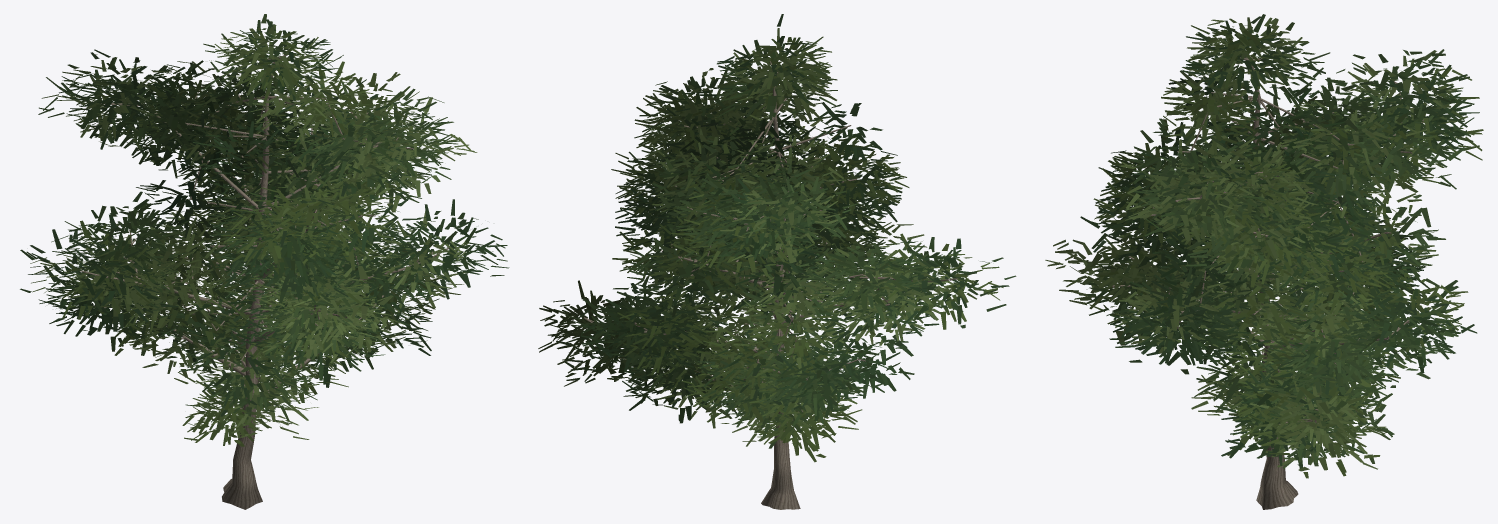
File: cyp3.glb
The picture shows the model from 3 angles, left to right: view 1: azimuth 30°, elevation 25°; view 2: azimuth 150°, elevation 25°; view 3: azimuth 270°, elevation 25°; orthographic projection. The views are drawn at different scales.
Parts seen in each view (by area): view 1: cyp3_lod0_1, cyp3_lod0_0; view 2: cyp3_lod0_1, cyp3_lod0_0; view 3: cyp3_lod0_1, cyp3_lod0_0.
Part boxes in pixels (<box>): cyp3_lod0_1: <box>20,14,509,446</box>; cyp3_lod0_0: <box>79,54,448,509</box>; cyp3_lod0_1: <box>538,14,1016,462</box>; cyp3_lod0_0: <box>584,61,957,509</box>; cyp3_lod0_1: <box>1045,14,1483,478</box>; cyp3_lod0_0: <box>1112,57,1423,509</box>.
Size of what is drawn, in the model's own units: 16.32 by 17.07 by 13.89.
2 materials, 1 textured.
